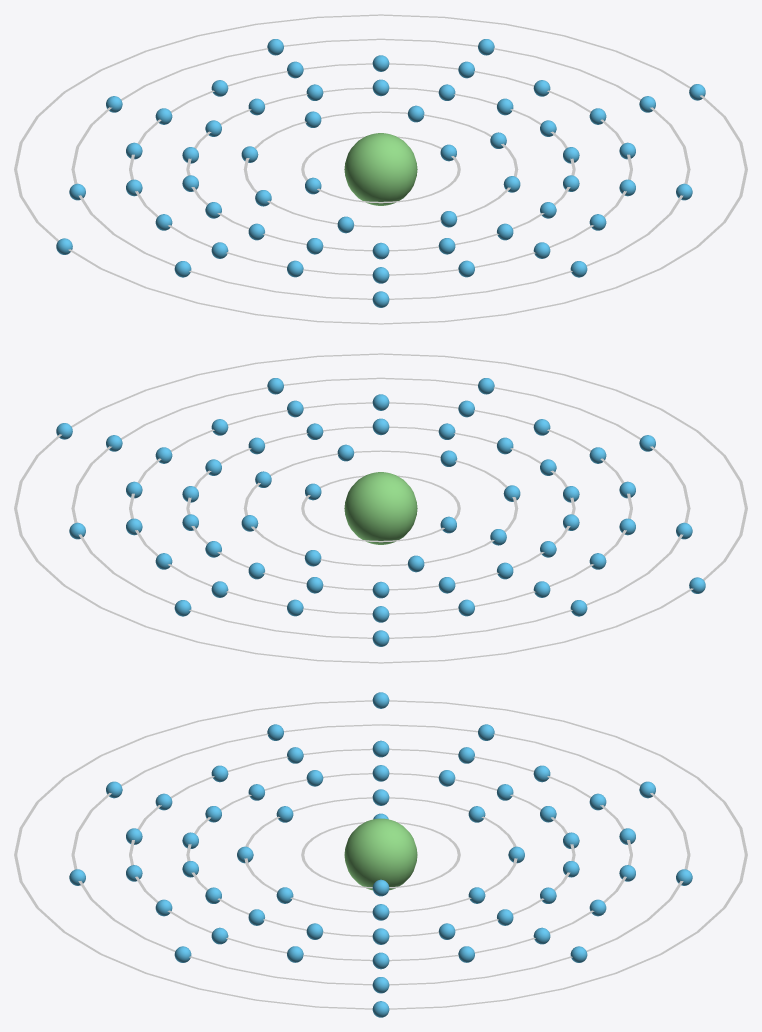
File: uranium_atom.glb
The picture shows the model from 3 angles, top to bottom: view 1: azimuth 30°, elevation 25°; view 2: azimuth 150°, elevation 25°; view 3: azimuth 270°, elevation 25°; orthographic projection.
Visible parts, largest first — view 1: nucleus_node, shell_ring_5, shell_ring_4, shell_ring_3, shell_ring_2, shell_ring_1, shell_ring_0; view 2: nucleus_node, shell_ring_5, shell_ring_4, shell_ring_3, shell_ring_2, shell_ring_1, shell_ring_0; view 3: nucleus_node, shell_ring_5, shell_ring_4, shell_ring_3, shell_ring_2, shell_ring_1, shell_ring_0.
Boxes of the visible parts, box(x1,y1,x2,y2) form: nucleus_node: box(344, 133, 417, 205); shell_ring_5: box(14, 14, 747, 324); shell_ring_4: box(71, 38, 690, 299); shell_ring_3: box(129, 63, 632, 275); shell_ring_2: box(186, 87, 575, 251); shell_ring_1: box(243, 111, 518, 227); shell_ring_0: box(301, 136, 460, 203); nucleus_node: box(344, 472, 417, 544); shell_ring_5: box(14, 353, 747, 663); shell_ring_4: box(71, 377, 690, 638); shell_ring_3: box(129, 402, 632, 614); shell_ring_2: box(186, 426, 575, 590); shell_ring_1: box(243, 450, 518, 566); shell_ring_0: box(301, 475, 460, 542); nucleus_node: box(344, 818, 417, 890); shell_ring_5: box(14, 700, 747, 1009); shell_ring_4: box(71, 724, 690, 985); shell_ring_3: box(129, 748, 632, 961); shell_ring_2: box(186, 773, 575, 936); shell_ring_1: box(244, 797, 517, 912); shell_ring_0: box(301, 822, 460, 888).
Size of the model in its own units: 7.16 by 0.7 by 7.03.
